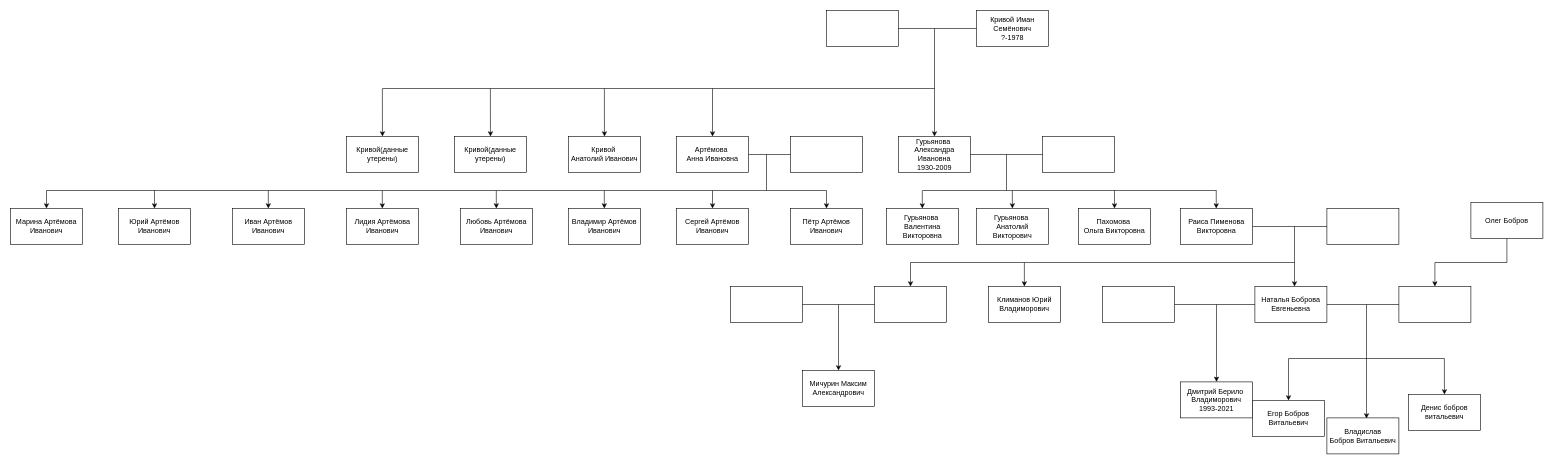
This 1553x464 diagram has some shape labels left out. The shapes that lost their labels are listed below. From the top down, each one's centre as x and y in pixels, then its label:
At point 862,28: "Кривая Мария Яковлевна 1878-1973".
At point 826,154: "Артёмова Иван Семёнович 1914".
At point 1078,154: "Виктор Гурьянов".
At point 1362,226: "Евгений Пименёв".
At point 910,304: "Мичурин Александр Евгеньевич 1986".
At point 1138,304: "Владимир Берило".
At point 1434,304: "Виталий Бобров Олегович".
